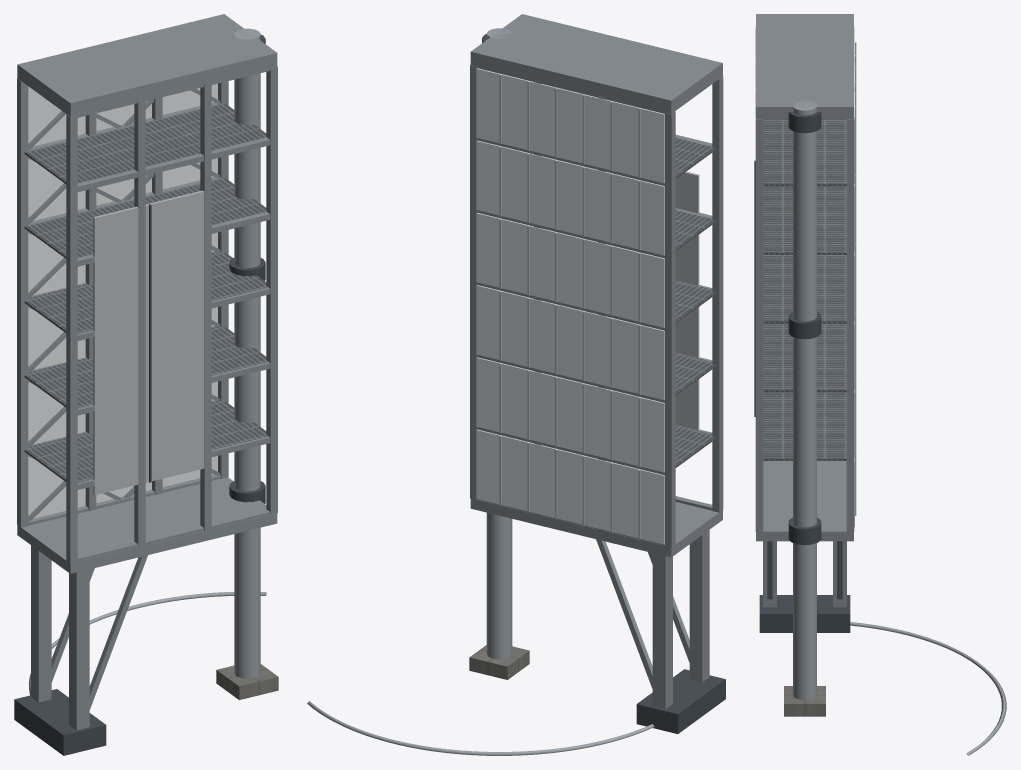
Rendered from rss.glb.
3 views of the same model, side by side, from view 1: azimuth 30°, elevation 25°; view 2: azimuth 150°, elevation 25°; view 3: azimuth 270°, elevation 25° (orthographic). The views are drawn at different scales.
Visible parts, largest first — view 1: pose_rss, hinge, rail; view 2: pose_rss, hinge, rail; view 3: pose_rss, hinge, rail.
Boxes of the visible parts, x1,y1,x2,y2 form: pose_rss: [14, 14, 277, 755]; hinge: [216, 28, 278, 699]; rail: [28, 592, 266, 695]; pose_rss: [470, 14, 725, 733]; hinge: [469, 28, 529, 679]; rail: [307, 701, 654, 755]; pose_rss: [754, 14, 856, 632]; hinge: [784, 100, 825, 716]; rail: [850, 622, 1006, 755].
Size of the model in its own units: 9.66 by 19 by 7.22.
Materials: 7 (2 with a texture image).
